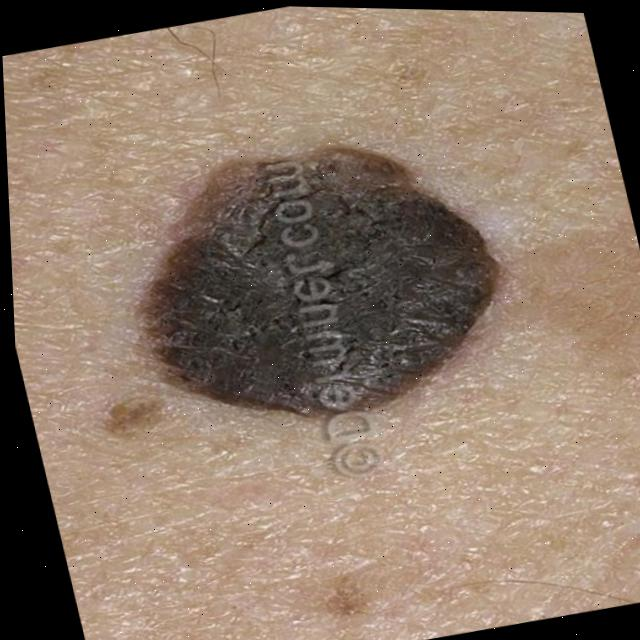Eczema: (158, 150, 534, 407)
